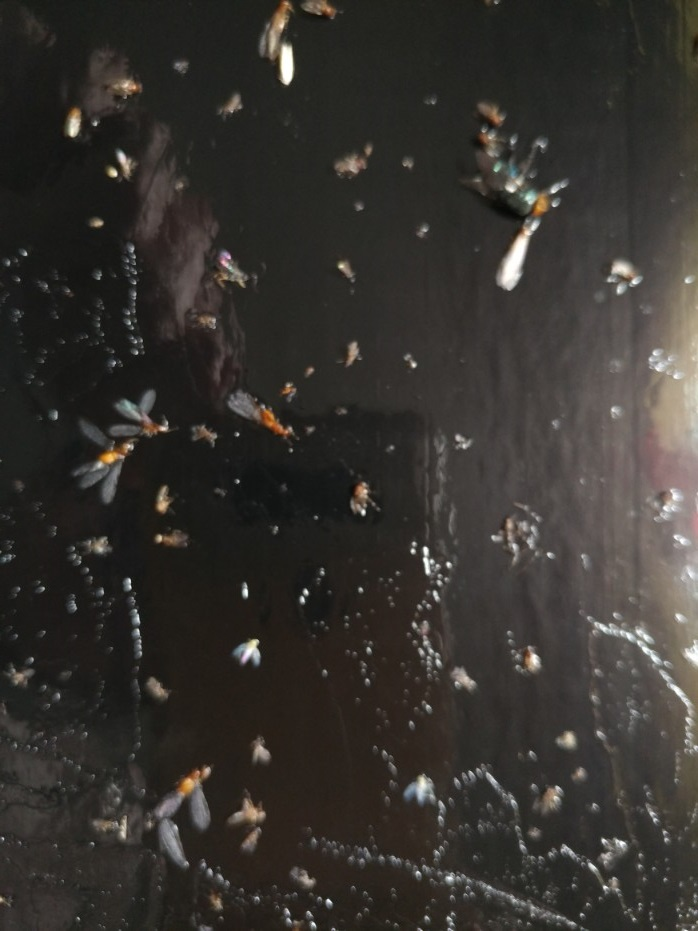house fly: (461, 127, 585, 304)
